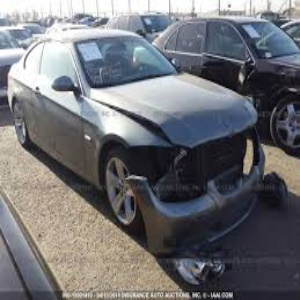bonnet: (138, 82, 254, 143)
bumper: (127, 164, 262, 259)
